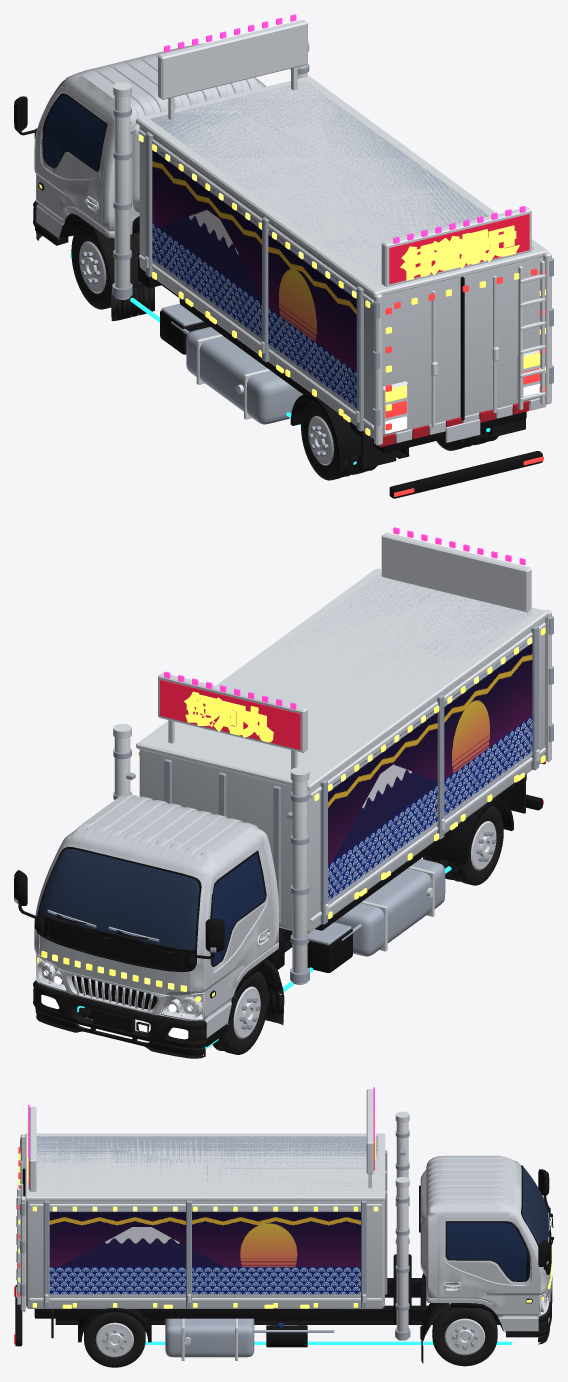
The model's file is dekotora_truck_leve_jac.glb.
The picture shows the model from 3 angles, top to bottom: view 1: azimuth 30°, elevation 25°; view 2: azimuth 150°, elevation 25°; view 3: azimuth 270°, elevation 25°; orthographic projection. The views are drawn at different scales.
Visible parts, largest first — view 1: truck_chrome, truck_paint_white_panel, truck_steel, truck_mural, truck_plastic_black, truck_lamp_amber, truck_glass, wheel_r_L_1.5_1.06, wheel_f_L, truck_rubber, truck_andon_panel, truck_paint_white (+4 smaller); view 2: truck_chrome, truck_paint_white_panel, truck_mural, truck_steel, truck_plastic_black, truck_glass_wind, truck_plastic_trim, truck_lamp_amber, truck_andon_panel, truck_glass, wheel_f_L, wheel_r_L_1.5_1.06 (+2 smaller); view 3: truck_chrome, truck_mural, truck_paint_white_panel, truck_steel, truck_plastic_black, truck_glass, wheel_f_R, wheel_r_R_1.5_1.06, truck_glass_wind, truck_lamp_amber, truck_plastic_trim, truck_lamp_cyan.
Part boxes in pixels (x1,y1,x2,y2): truck_chrome: (35, 19, 551, 445); truck_paint_white_panel: (34, 43, 543, 438); truck_steel: (112, 63, 553, 431); truck_mural: (152, 149, 356, 410); truck_plastic_black: (14, 80, 542, 498); truck_lamp_amber: (39, 144, 545, 435); truck_glass: (45, 95, 105, 169); wheel_r_L_1.5_1.06: (301, 400, 358, 480); wheel_f_L: (71, 225, 111, 309); truck_rubber: (111, 285, 525, 468); truck_andon_panel: (389, 214, 529, 283); truck_paint_white: (396, 398, 546, 443); truck_chrome: (15, 532, 551, 1020); truck_paint_white_panel: (34, 618, 544, 1037); truck_mural: (328, 642, 532, 903); truck_steel: (47, 576, 553, 983); truck_plastic_black: (14, 774, 542, 1046); truck_glass_wind: (40, 848, 199, 949); truck_plastic_trim: (33, 958, 283, 1058); truck_lamp_amber: (37, 627, 545, 1001); truck_andon_panel: (160, 679, 300, 749); truck_glass: (210, 853, 264, 964); wheel_f_L: (212, 971, 268, 1054); wheel_r_L_1.5_1.06: (446, 806, 503, 885); truck_chrome: (16, 1089, 551, 1360); truck_mural: (49, 1209, 360, 1296); truck_paint_white_panel: (26, 1155, 550, 1331); truck_steel: (20, 1130, 549, 1357); truck_plastic_black: (15, 1165, 553, 1347); truck_glass: (447, 1222, 526, 1280); wheel_f_R: (432, 1303, 497, 1366); wheel_r_R_1.5_1.06: (84, 1312, 145, 1367); truck_glass_wind: (522, 1167, 548, 1245); truck_lamp_amber: (18, 1110, 552, 1308); truck_plastic_trim: (421, 1273, 552, 1344); truck_lamp_cyan: (145, 1341, 512, 1344).
Bounding box in the file's own units: 3.05 × 4.22 × 9.1.
Materials: 22 (6 with a texture image).
